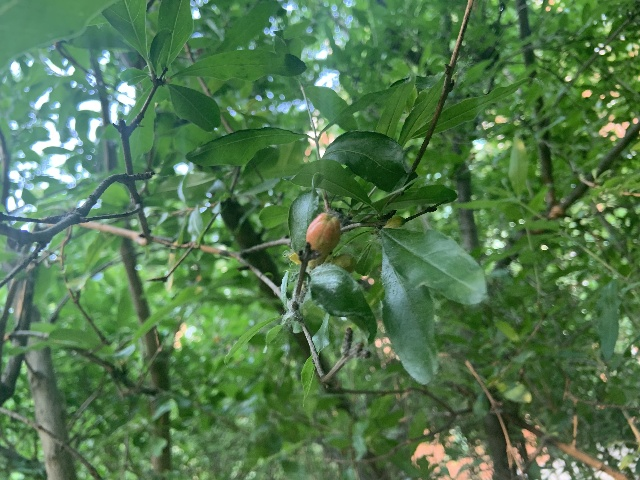bud: (305, 213, 340, 255)
